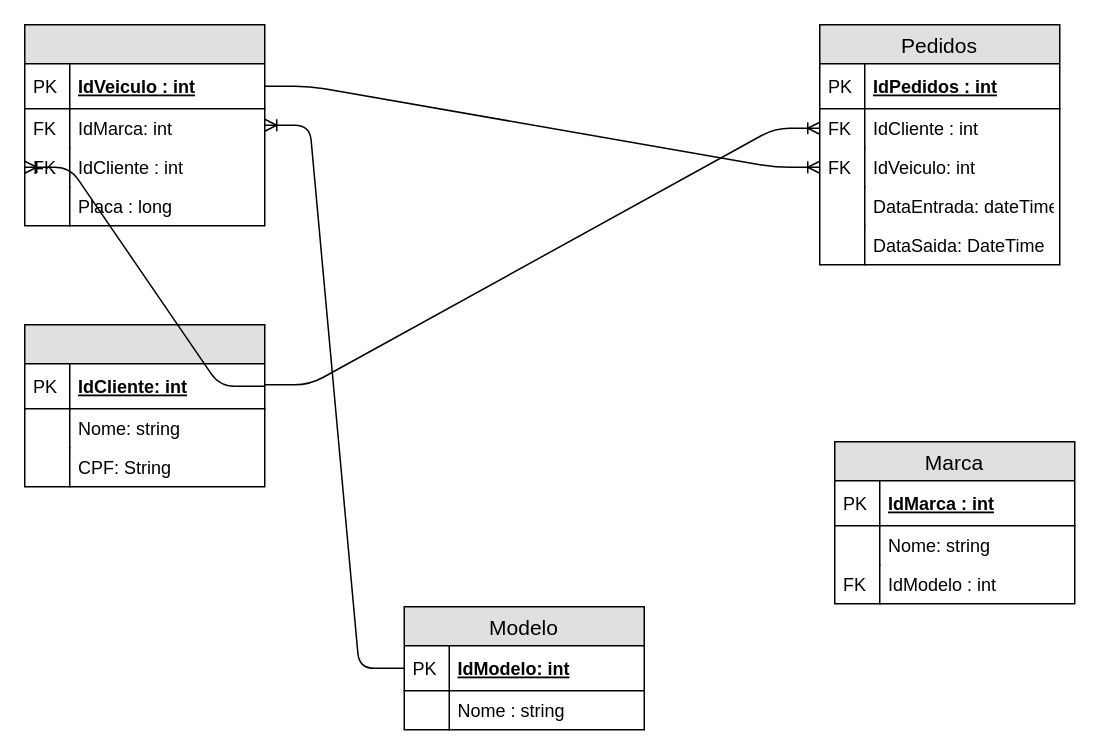
This 1100x755 diagram has some shape labels left out. The box of each missing label's shape, as (x1, y1, x2, y2) in pixels:
Clientes: (23, 323, 265, 487)
Veiculos: (23, 23, 265, 226)
